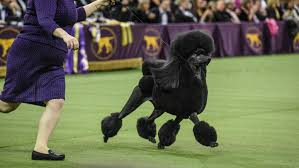Poodle: (112, 27, 246, 154)
